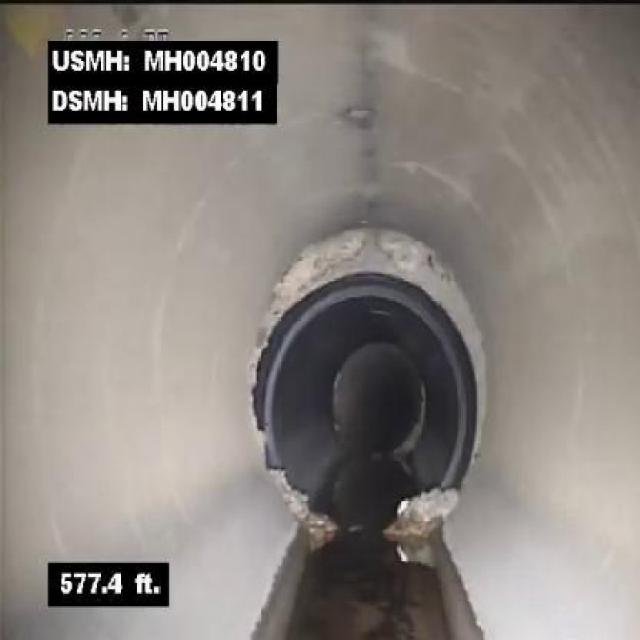Joint offset: (255, 217, 476, 315), (246, 317, 289, 505), (451, 315, 495, 468)
